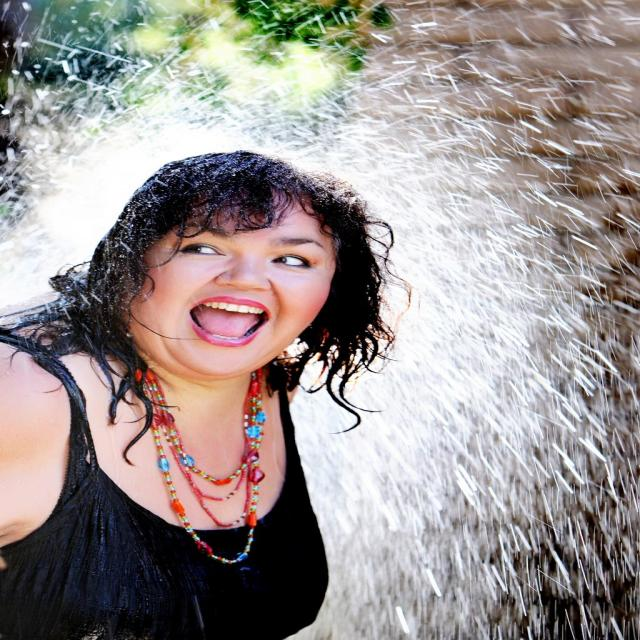Face: (147, 181, 384, 371)
